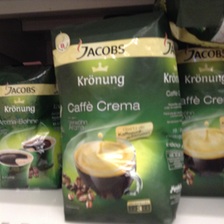coffee: (49, 10, 183, 224), (1, 52, 60, 190)
